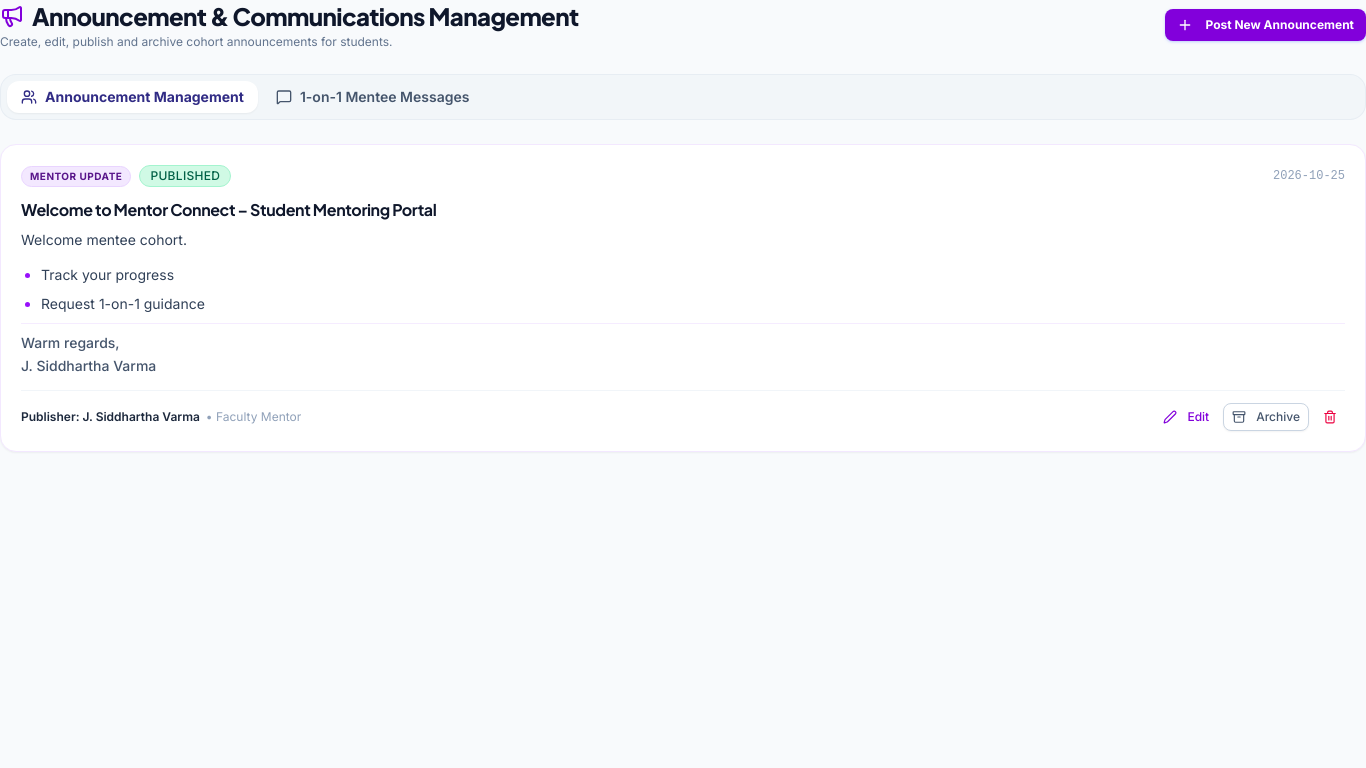
Test: Mentor Connect — Announcement Formatting and Editor Improvements › 2. Admin Announcement Editor — Toolbar, Write and Preview Tabs › editing an existing announcement loads its exact formatting and preserves it
Expected: the heading "Welcome to Mentor Connect – Student Mentoring Portal" is shown, [21,199,436,220]
Click Edit button
Click the button "Edit" at (1186, 417), box [1155,403,1217,431]
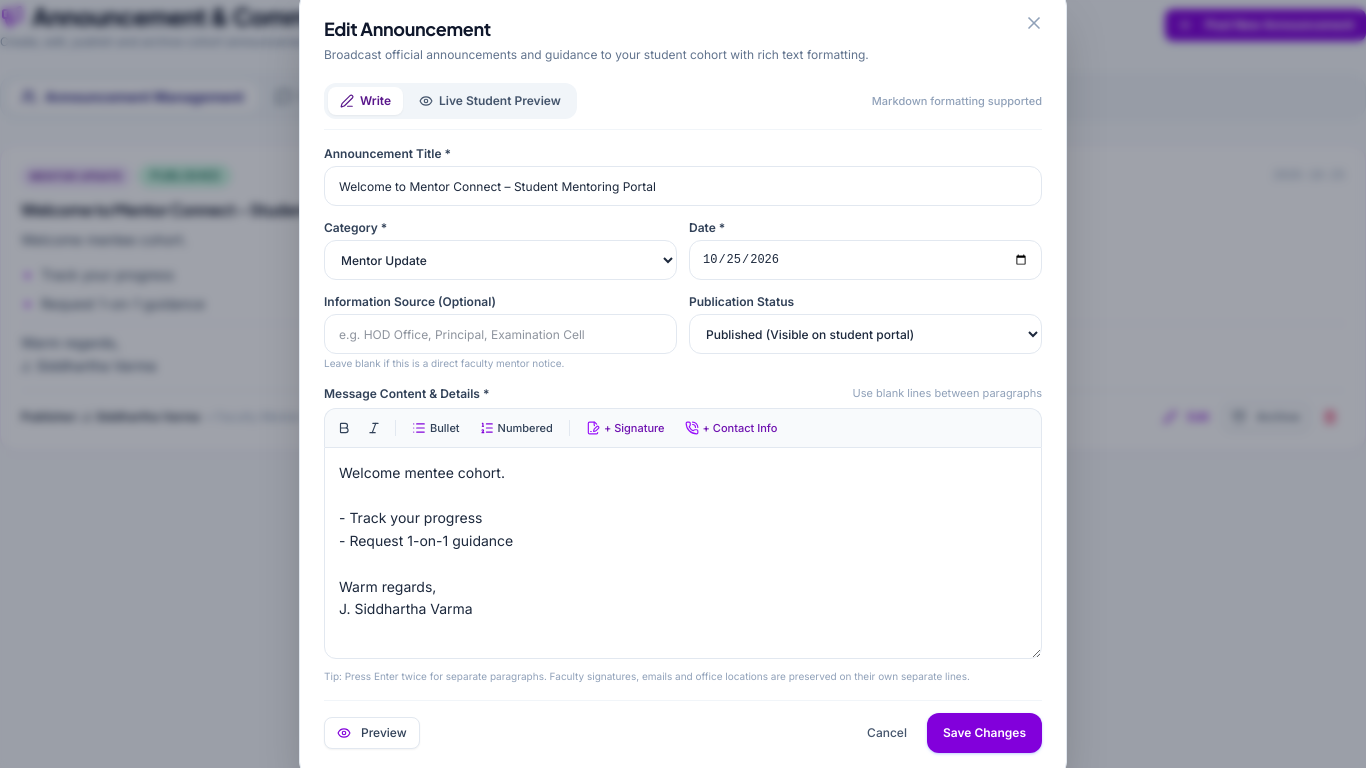
Expected: the heading "Edit Announcement" is shown, [324,17,491,40]
Expected: the field with placeholder "e.g. Mid-Semester Lab Schedule & Guidelines" holds "Welcome to Mentor Connect – Student Mentoring Portal", [324,166,1042,206]
